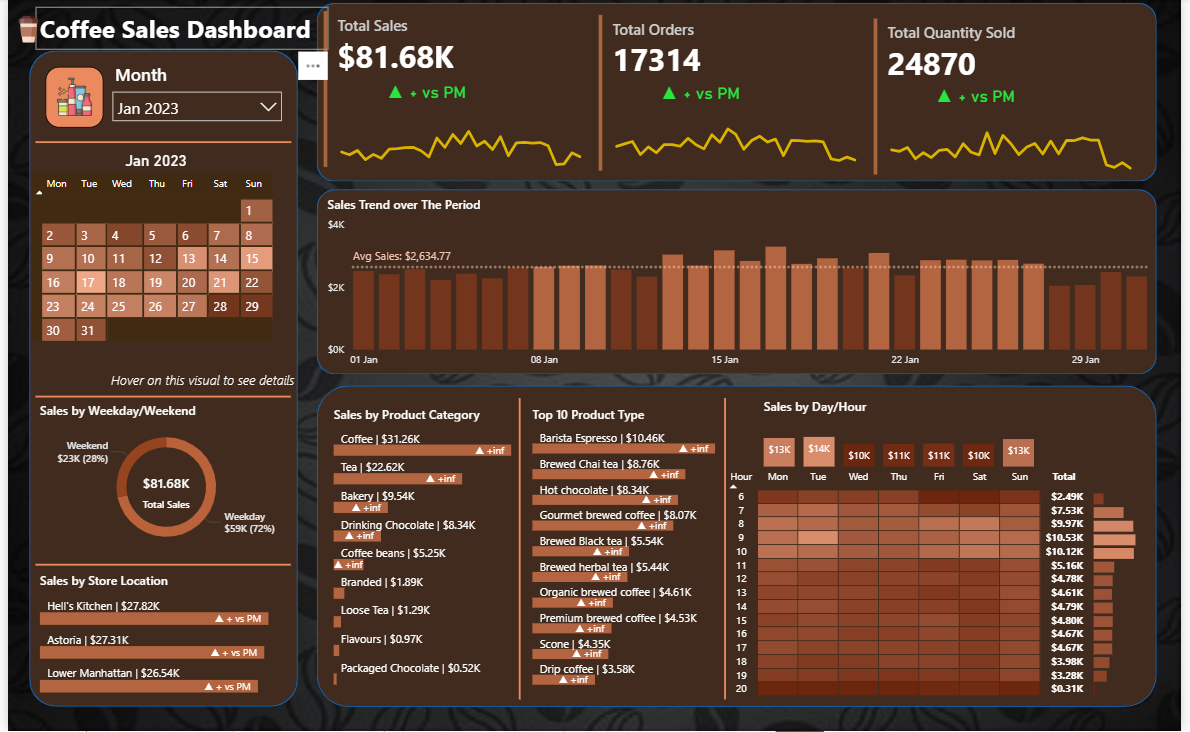

Layout of this report page (visuals, bound fields, positions):
{"tool":"powerbi","page":{"name":"Monthly Sales","canvas":[1280,800],"ordinal":0},"visuals":[{"type":"cardVisual","fields":{"Data":["Key Measures.Total Sales"]},"box":[339.8,9.9,300.1,180.3],"z":0,"group":"g1"},{"type":"cardVisual","fields":{"Data":["Key Measures.Total Orders"]},"box":[639.4,13.9,300.1,180.6],"z":0,"group":"g2"},{"type":"cardVisual","fields":{"Data":["Key Measures.Total Quantity Sold"]},"box":[939.6,17.6,300.5,180.6],"z":0,"group":"g3"},{"type":"shape","box":[23.1,57.7,292.9,715.6],"z":0},{"type":"pivotTable","fields":{"Rows":["Dim_Date.WeekNumber"],"Columns":["Dim_Date.ShortWeekdayName"],"Values":["Min(Dim_Date.DayNo)"]},"box":[20.4,186,300.1,216.4],"z":0,"group":"g4"},{"type":"pivotTable","fields":{"Rows":["Dim_Time.Hour"],"Columns":["Dim_Date.ShortWeekdayName"],"Values":["Key Measures.Total Sales"]},"box":[777.6,509.3,424.2,264],"z":0,"group":"g5"},{"type":"shape","box":[336.2,5.8,916.2,194.8],"z":1000},{"type":"lineChart","fields":{"Category":["Dim_Date.Date Hierarchy.Date"],"Y":["Key Measures.Total Orders"]},"box":[648.8,122.5,290,70.7],"z":1000,"group":"g2"},{"type":"lineChart","fields":{"Y":["Key Measures.Total Sales"],"Category":["Dim_Date.Date Hierarchy.Date"]},"box":[349.9,125.3,290,63.5],"z":1000,"group":"g1"},{"type":"lineChart","fields":{"Category":["Dim_Date.Date Hierarchy.Date"],"Y":["Key Measures.Total Quantity Sold"]},"box":[949.1,126.2,290.4,70.7],"z":1000,"group":"g3"},{"type":"card","fields":{"Values":["Min(Dim_Date.YearMonth)"]},"box":[93.8,163,135.6,27.4],"z":1000,"group":"g4"},{"type":"barChart","fields":{"Category":["Dim_Time.Hour"],"Y":["Key Measures.Total Sales"]},"box":[1179.2,527,75,238.1],"z":1000,"group":"g5"},{"type":"slicer","fields":{"Values":["Dim_Date.YearMonth"]},"box":[103.9,64.9,204.9,86.6],"z":2000},{"type":"card","fields":{"Values":["Key Measures.MoM Growth & Sales Diff"]},"box":[350.4,86,212.1,34.6],"z":2000,"group":"g1"},{"type":"card","fields":{"Values":["Key Measures.MoM Growth & Orders Diff"]},"box":[649.5,86.1,212.1,36.1],"z":2000,"group":"g2"},{"type":"card","fields":{"Values":["Key Measures.MoM Growth & Quantity Diff"]},"box":[949.7,89.8,212.4,36.1],"z":2000,"group":"g3"},{"type":"card","fields":{"Values":["Key Measures.Footnote"]},"box":[103.5,403.9,217.9,28.9],"z":2000,"group":"g4"},{"type":"columnChart","title":"Sales by Day/Hour","fields":{"Y":["Key Measures.Total Sales"],"Category":["Dim_Date.ShortWeekdayName"]},"box":[819.4,435.7,305.9,80.8],"z":2000,"group":"g5"},{"type":"group","id":"g1","title":"Group 1","box":[339.8,9.9,300.1,180.3],"z":3000},{"type":"group","id":"g2","title":"Group 1","box":[639.4,13.9,300.8,180],"z":4000},{"type":"group","id":"g3","title":"Group 1","box":[939.6,17.6,300,180],"z":5000},{"type":"group","id":"g4","title":"Group 2","box":[20.4,163,300.9,269.8],"z":6000},{"type":"shape","box":[30.4,148.1,279.1,17.2],"z":7000},{"type":"donutChart","title":"Sales by Weekday/Weekend","fields":{"Y":["Key Measures.Total Sales"],"Category":["Dim_Date.isWeekend"]},"box":[30.3,440,285.7,168.8],"z":8000},{"type":"card","fields":{"Values":["Key Measures.Total Sales"]},"box":[132.7,509.3,80.8,56.3],"z":9000},{"type":"clusteredBarChart","title":"Sales by Store Location","fields":{"Y":["Key Measures.Placeholder","Key Measures.Total Sales"],"Category":["Dim_Store.store_location"]},"box":[30.4,625.7,284.4,138.9],"z":10000},{"type":"shape","box":[336.2,209.2,916.2,202],"z":11000},{"type":"shape","box":[336.2,422.7,916.2,350.6],"z":12000},{"type":"columnChart","title":"Sales Trend over The Period","fields":{"Category":["Dim_Date.Date"],"Y":["Key Measures.Total Sales"]},"box":[343.4,215,908.9,196.2],"z":13000},{"type":"clusteredBarChart","title":"Sales by Product Category","fields":{"Y":["Key Measures.Placeholder","Key Measures.Total Sales"],"Category":["Dim_Category.product_category"]},"box":[350.6,444.4,232.3,310.2],"z":14000},{"type":"shape","box":[549.7,435.7,17.3,328.9],"z":15000},{"type":"shape","box":[30.3,425.6,278.5,18.8],"z":16000},{"type":"shape","box":[30.3,608.8,278.5,17.3],"z":17000},{"type":"clusteredBarChart","title":"Top 10 Product Type","fields":{"Y":["Key Measures.Placeholder","Key Measures.Total Sales"],"Category":["Dim_Type.product_type"]},"box":[567,444.4,240.9,310.2],"z":18000},{"type":"group","id":"g5","title":"Group 3","box":[777.6,435.7,476.6,337.6],"z":19000},{"type":"textbox","box":[30.3,10.1,320.3,47.6],"z":20000},{"type":"image","box":[0,14.4,44.7,39],"z":21000},{"type":"shape","box":[766.1,435.7,31.7,328.9],"z":22000},{"type":"image","box":[40.4,75,63.5,66.4],"z":23001}]}

Visuals, with their boxes in screenshot pixels (x1, y1, x2, y2), scaled from the page's 1280x800 canvas onto the 1190x732 screenshot:
cardVisual - Key Measures.Total Sales: left=316, top=9, right=595, bottom=174
cardVisual - Key Measures.Total Orders: left=594, top=13, right=873, bottom=178
cardVisual - Key Measures.Total Quantity Sold: left=874, top=16, right=1153, bottom=181
shape: left=21, top=53, right=294, bottom=708
pivotTable - Dim_Date.WeekNumber x Dim_Date.ShortWeekdayName: left=19, top=170, right=298, bottom=368
pivotTable - Dim_Time.Hour x Dim_Date.ShortWeekdayName: left=723, top=466, right=1117, bottom=708
shape: left=313, top=5, right=1164, bottom=184
lineChart - Dim_Date.Date Hierarchy.Date x Key Measures.Total Orders: left=603, top=112, right=873, bottom=177
lineChart - Key Measures.Total Sales x Dim_Date.Date Hierarchy.Date: left=325, top=115, right=595, bottom=173
lineChart - Dim_Date.Date Hierarchy.Date x Key Measures.Total Quantity Sold: left=882, top=115, right=1152, bottom=180
card - Min(Dim_Date.YearMonth): left=87, top=149, right=213, bottom=174
barChart - Dim_Time.Hour x Key Measures.Total Sales: left=1096, top=482, right=1166, bottom=700
slicer - Dim_Date.YearMonth: left=97, top=59, right=287, bottom=139
card - Key Measures.MoM Growth & Sales Diff: left=326, top=79, right=523, bottom=110
card - Key Measures.MoM Growth & Orders Diff: left=604, top=79, right=801, bottom=112
card - Key Measures.MoM Growth & Quantity Diff: left=883, top=82, right=1080, bottom=115
card - Key Measures.Footnote: left=96, top=370, right=299, bottom=396
"Sales by Day/Hour" columnChart: left=762, top=399, right=1046, bottom=473
"Group 1" group: left=316, top=9, right=595, bottom=174
"Group 1" group: left=594, top=13, right=874, bottom=177
"Group 1" group: left=874, top=16, right=1152, bottom=181
"Group 2" group: left=19, top=149, right=299, bottom=396
shape: left=28, top=136, right=288, bottom=151
"Sales by Weekday/Weekend" donutChart: left=28, top=403, right=294, bottom=557
card - Key Measures.Total Sales: left=123, top=466, right=198, bottom=518
"Sales by Store Location" clusteredBarChart: left=28, top=573, right=293, bottom=700
shape: left=313, top=191, right=1164, bottom=376
shape: left=313, top=387, right=1164, bottom=708
"Sales Trend over The Period" columnChart: left=319, top=197, right=1164, bottom=376
"Sales by Product Category" clusteredBarChart: left=326, top=407, right=542, bottom=690
shape: left=511, top=399, right=527, bottom=700
shape: left=28, top=389, right=287, bottom=407
shape: left=28, top=557, right=287, bottom=573
"Top 10 Product Type" clusteredBarChart: left=527, top=407, right=751, bottom=690
"Group 3" group: left=723, top=399, right=1166, bottom=708
textbox: left=28, top=9, right=326, bottom=53
image: left=0, top=13, right=42, bottom=49
shape: left=712, top=399, right=742, bottom=700
image: left=38, top=69, right=97, bottom=129
